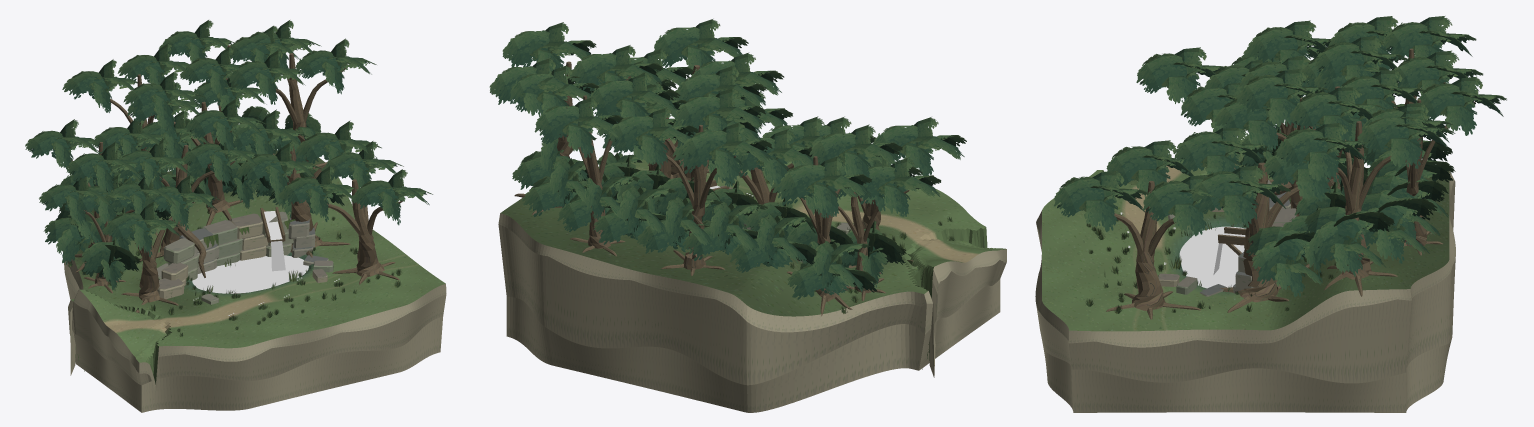
The model's file is forest_spring.glb.
The picture shows the model from 3 angles, left to right: view 1: azimuth 30°, elevation 25°; view 2: azimuth 150°, elevation 25°; view 3: azimuth 270°, elevation 25°; orthographic projection. The views are drawn at different scales.
Parts seen in each view (by area): view 1: ForestSpring_Land_Foundation, ForestSpring_Ground, ForestSpring_Pool, ForestSpring_Tree_04_Trunk, ForestSpring_Tree_00_Trunk, ForestSpring_Tree_03_Leaves_2_3, ForestSpring_Tree_03_Leaves_0_3, ForestSpring_Tree_04_Leaves_0_3, ForestSpring_Tree_04_Leaves_2_3, ForestSpring_Tree_00_Leaves_1_3, ForestSpring_Tree_01_Leaves_0_3, ForestSpring_Tree_02_Trunk (+40 smaller); view 2: ForestSpring_Land_Foundation, ForestSpring_Ground, ForestSpring_Tree_06_Leaves_1_5, ForestSpring_Tree_04_Leaves_2_5, ForestSpring_Tree_05_Leaves_0_5, ForestSpring_Tree_07_Leaves_2_5, ForestSpring_Tree_08_Leaves_2_5, ForestSpring_Tree_07_Leaves_0_5, ForestSpring_Tree_06_Leaves_2_5, ForestSpring_Tree_08_Leaves_1_5, ForestSpring_Tree_07_Leaves_1_5, ForestSpring_Tree_05_Leaves_2_5 (+49 smaller); view 3: ForestSpring_Land_Foundation, ForestSpring_Ground, ForestSpring_Pool, ForestSpring_Tree_04_Trunk, ForestSpring_Tree_03_Trunk, ForestSpring_Tree_03_Leaves_0_1, ForestSpring_Tree_03_Leaves_2_1, ForestSpring_Tree_04_Leaves_2_1, ForestSpring_Tree_00_Leaves_1_1, ForestSpring_Tree_04_Leaves_1_1, ForestSpring_Tree_06_Leaves_1_1, ForestSpring_Tree_06_Leaves_0_1 (+52 smaller).
Part boxes in pixels (x1,y1,x2,y2): ForestSpring_Land_Foundation: [63, 251, 446, 412]; ForestSpring_Ground: [71, 150, 445, 384]; ForestSpring_Pool: [192, 255, 308, 293]; ForestSpring_Tree_04_Trunk: [352, 179, 384, 276]; ForestSpring_Tree_00_Trunk: [139, 244, 159, 302]; ForestSpring_Tree_03_Leaves_2_3: [295, 134, 351, 162]; ForestSpring_Tree_03_Leaves_0_3: [236, 155, 292, 184]; ForestSpring_Tree_04_Leaves_0_3: [278, 179, 331, 205]; ForestSpring_Tree_04_Leaves_2_3: [350, 182, 403, 208]; ForestSpring_Tree_00_Leaves_1_3: [102, 214, 155, 240]; ForestSpring_Tree_01_Leaves_0_3: [182, 145, 233, 172]; ForestSpring_Tree_02_Trunk: [201, 101, 230, 213]; ForestSpring_Land_Foundation: [498, 213, 1006, 412]; ForestSpring_Ground: [500, 138, 1005, 369]; ForestSpring_Tree_06_Leaves_1_5: [502, 30, 562, 67]; ForestSpring_Tree_04_Leaves_2_5: [654, 27, 712, 67]; ForestSpring_Tree_05_Leaves_0_5: [778, 164, 837, 204]; ForestSpring_Tree_07_Leaves_2_5: [682, 130, 738, 169]; ForestSpring_Tree_08_Leaves_2_5: [534, 105, 591, 143]; ForestSpring_Tree_07_Leaves_0_5: [608, 115, 664, 154]; ForestSpring_Tree_06_Leaves_2_5: [569, 53, 629, 90]; ForestSpring_Tree_08_Leaves_1_5: [589, 80, 644, 116]; ForestSpring_Tree_07_Leaves_1_5: [675, 96, 728, 134]; ForestSpring_Tree_05_Leaves_2_5: [809, 132, 868, 164]; ForestSpring_Land_Foundation: [1035, 171, 1455, 412]; ForestSpring_Ground: [1042, 139, 1449, 331]; ForestSpring_Pool: [1179, 226, 1245, 288]; ForestSpring_Tree_04_Trunk: [1132, 181, 1165, 310]; ForestSpring_Tree_03_Trunk: [1238, 162, 1279, 302]; ForestSpring_Tree_03_Leaves_0_1: [1173, 133, 1238, 174]; ForestSpring_Tree_03_Leaves_2_1: [1191, 173, 1255, 213]; ForestSpring_Tree_04_Leaves_2_1: [1054, 179, 1115, 217]; ForestSpring_Tree_00_Leaves_1_1: [1136, 55, 1198, 93]; ForestSpring_Tree_04_Leaves_1_1: [1143, 183, 1200, 221]; ForestSpring_Tree_06_Leaves_1_1: [1275, 131, 1339, 167]; ForestSpring_Tree_06_Leaves_0_1: [1357, 117, 1420, 153].
Bounding box in the file's own units: 25.58 × 16.52 × 24.95.
9 materials, 6 textured.
